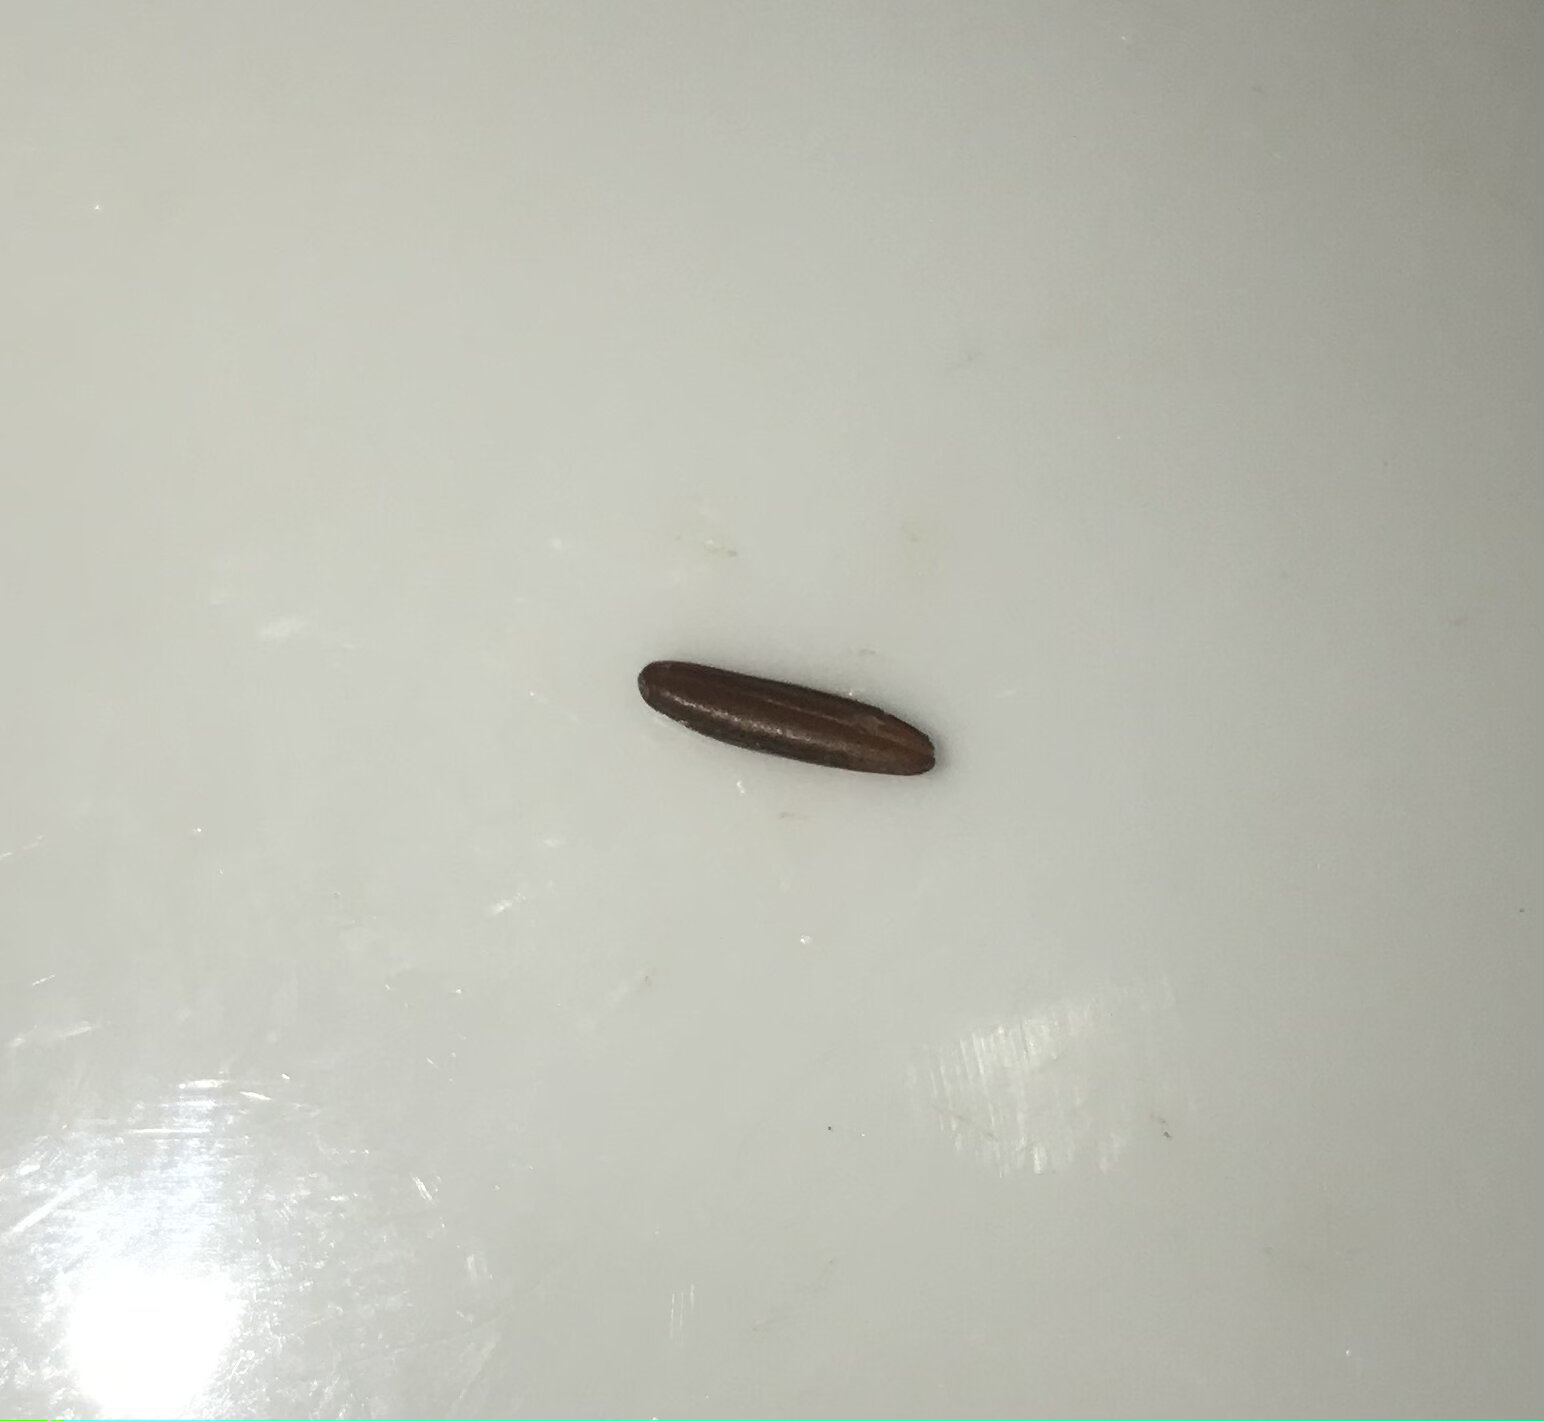Gao Huyet Rong: (629, 643, 954, 799)
